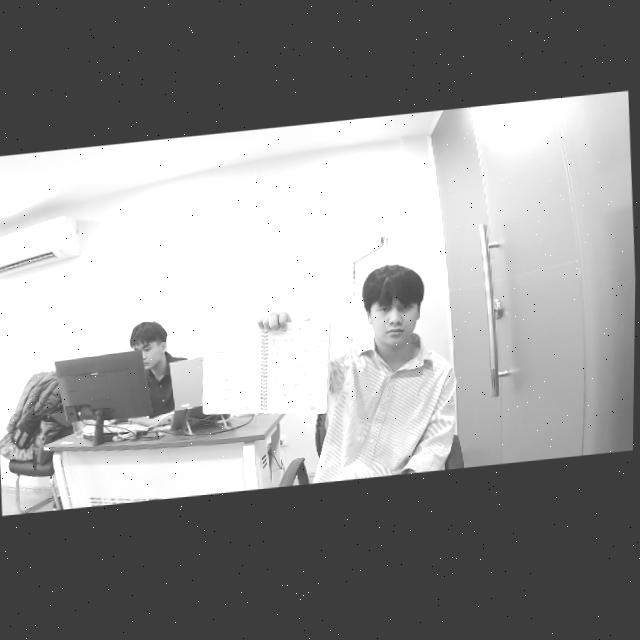document: (203, 322, 331, 414)
face: (364, 285, 423, 351)
